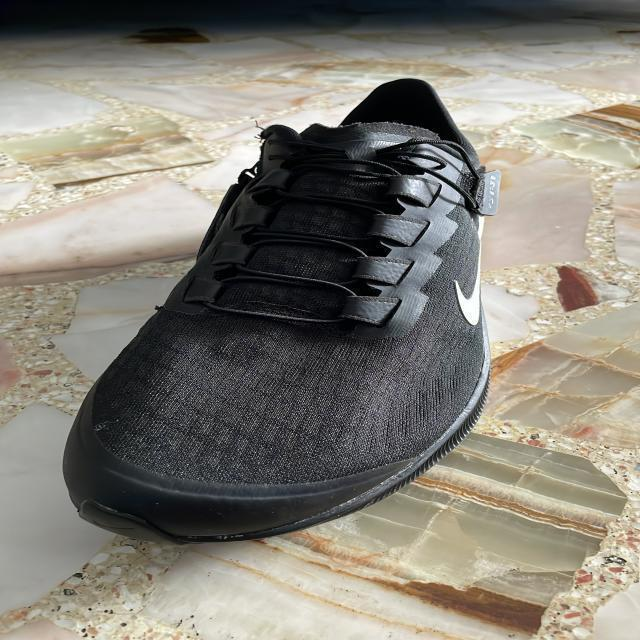shoes: (60, 76, 504, 545)
